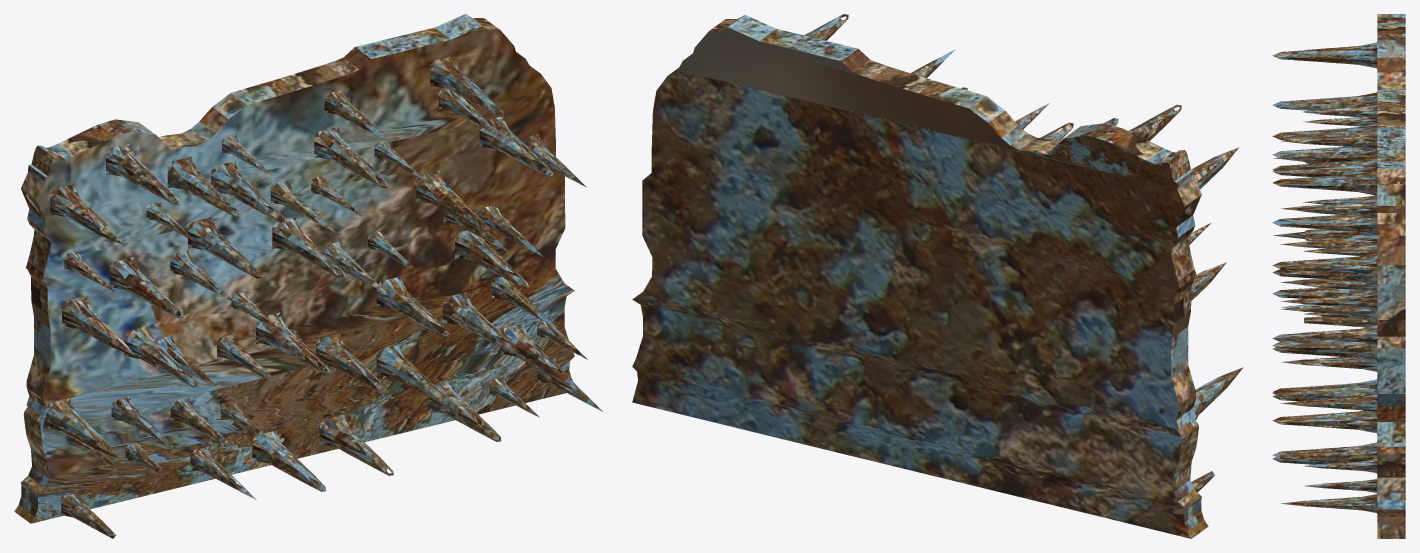
Rendered from Muro.fbx.
3 views of the same model, side by side, from view 1: azimuth 30°, elevation 25°; view 2: azimuth 150°, elevation 25°; view 3: azimuth 270°, elevation 25° (orthographic). The views are drawn at different scales.
Visible parts, largest first — view 1: Model_001; view 2: Model_001; view 3: Model_001.
Part boxes in pixels (x1,y1,x2,y2): Model_001: (14, 14, 602, 538); Model_001: (632, 14, 1243, 538); Model_001: (1272, 14, 1405, 538).
Bounding box in the file's own units: 2.94 × 2 × 0.7303.
1 material, 1 textured.
